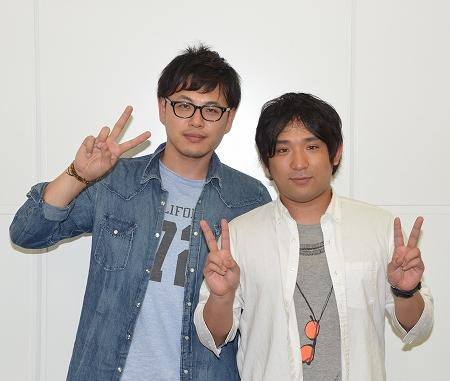face: (264, 117, 342, 203), (156, 75, 237, 156)
hand: (68, 104, 151, 181), (196, 217, 241, 295), (386, 214, 425, 292)
